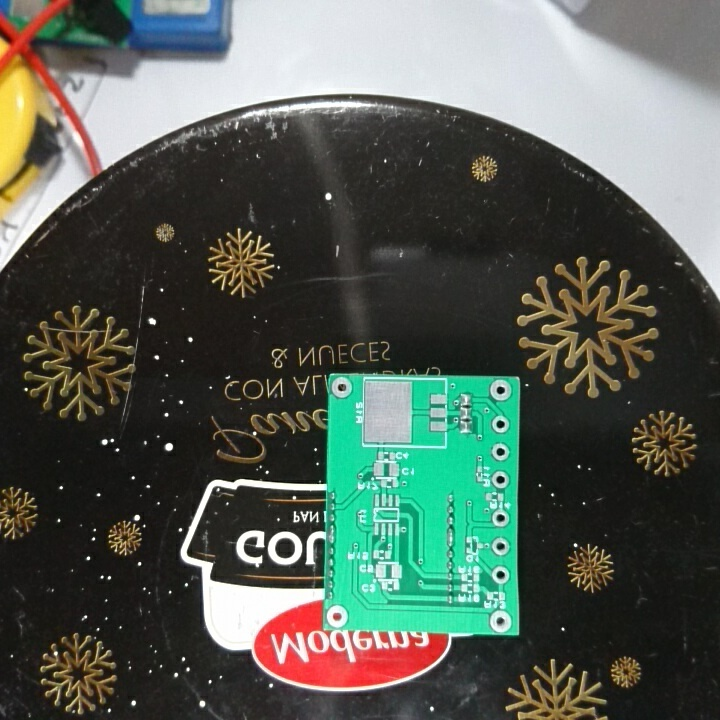F: (324, 602, 349, 631), (331, 374, 356, 400), (487, 379, 514, 403), (488, 608, 514, 632), (490, 533, 512, 560), (490, 440, 512, 463), (488, 506, 510, 528), (491, 413, 511, 437), (490, 564, 511, 586), (490, 469, 511, 490)
P: (444, 526, 458, 548), (327, 524, 340, 545)
